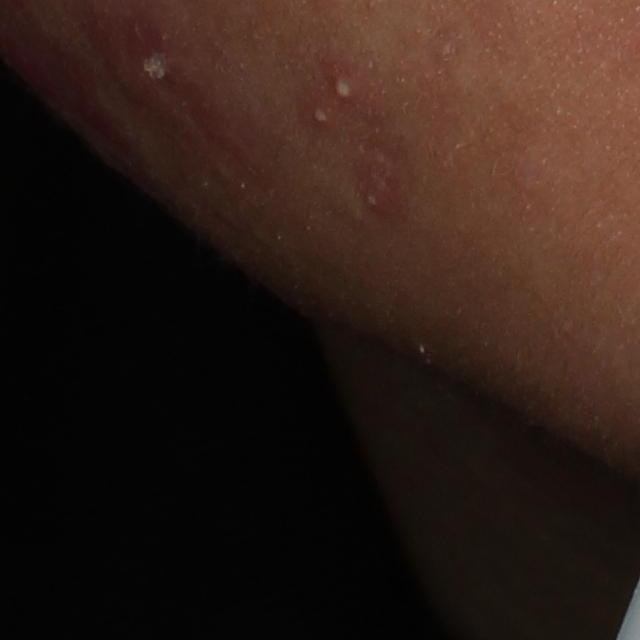pustule: (135, 39, 198, 98), (331, 75, 357, 104), (310, 105, 330, 128)
